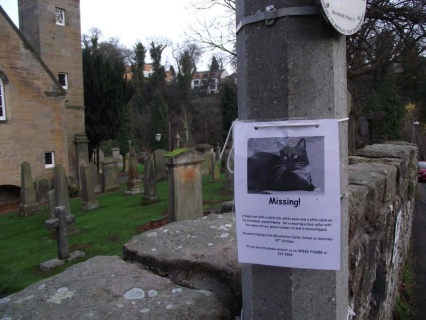Cat: (246, 139, 320, 196)
